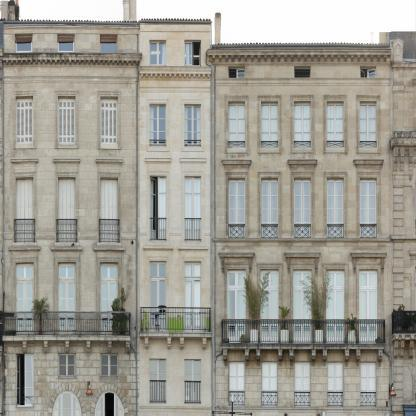Balcony: (221, 319, 386, 344), (2, 311, 131, 336), (141, 307, 212, 332)
Building Outline: (0, 0, 391, 416)
Cornice: (90, 383, 128, 416), (48, 383, 86, 416), (218, 252, 255, 274), (350, 252, 387, 274), (284, 252, 321, 274), (353, 159, 384, 167), (221, 159, 252, 167), (287, 159, 318, 167), (14, 346, 35, 354), (183, 32, 203, 40), (148, 32, 168, 40), (94, 246, 125, 251), (99, 346, 120, 353), (57, 346, 77, 353), (11, 159, 38, 164), (96, 159, 123, 164), (54, 159, 81, 164), (180, 158, 206, 163), (145, 158, 171, 163), (9, 246, 40, 250), (52, 246, 83, 250), (178, 246, 208, 249), (143, 246, 173, 249)
Deco: (377, 349, 383, 366), (223, 349, 228, 366), (289, 349, 294, 366), (311, 349, 316, 366), (322, 349, 327, 366), (344, 349, 349, 366), (355, 349, 360, 366), (278, 349, 283, 366), (256, 349, 261, 366), (245, 349, 250, 366), (22, 340, 27, 353), (65, 340, 70, 353), (86, 340, 91, 353), (107, 340, 112, 353), (202, 337, 207, 350), (180, 337, 185, 350), (144, 337, 149, 349), (44, 340, 48, 353), (126, 340, 130, 353), (167, 337, 171, 350)
Door: (101, 177, 118, 243), (58, 177, 75, 243), (184, 175, 201, 241), (16, 178, 33, 243), (150, 176, 167, 241), (228, 177, 245, 239), (261, 177, 278, 239), (294, 177, 311, 239), (293, 288, 311, 344), (360, 177, 376, 239), (327, 177, 343, 239), (16, 281, 34, 336), (228, 288, 246, 343), (327, 288, 345, 343), (101, 281, 118, 336), (59, 280, 76, 335), (360, 288, 377, 343), (261, 288, 278, 343), (185, 278, 202, 332), (150, 278, 167, 332)
Facade: (0, 18, 391, 415)
Floor: (2, 252, 391, 343), (2, 155, 391, 243), (2, 87, 391, 146), (139, 352, 391, 407)
Floor Slab: (3, 78, 391, 87), (3, 147, 391, 156), (3, 243, 391, 252), (3, 344, 391, 353), (139, 407, 391, 416)
Molding: (207, 49, 391, 61), (3, 52, 142, 66), (216, 408, 391, 416), (216, 78, 391, 86), (216, 239, 391, 247), (140, 66, 212, 81), (3, 76, 137, 83), (140, 87, 211, 93), (140, 405, 212, 410)
Top Floor: (2, 23, 210, 78), (210, 49, 390, 78)
Window: (16, 354, 34, 406), (101, 96, 118, 144), (16, 96, 33, 144), (58, 96, 75, 144), (228, 361, 245, 407), (261, 361, 278, 407), (228, 101, 245, 147), (261, 101, 278, 147), (185, 359, 202, 403), (150, 359, 167, 403), (360, 361, 376, 407), (294, 361, 310, 407), (327, 361, 343, 407), (360, 101, 376, 147), (294, 101, 310, 147), (327, 101, 343, 147), (184, 104, 201, 147), (150, 104, 167, 147), (100, 353, 118, 378), (58, 353, 76, 378), (184, 40, 201, 66), (150, 40, 167, 66), (228, 268, 246, 288), (16, 262, 34, 281), (293, 269, 311, 288), (327, 269, 345, 288), (261, 268, 278, 288), (15, 34, 33, 52), (59, 262, 76, 281), (360, 269, 377, 288), (101, 263, 118, 281), (100, 34, 117, 52), (58, 34, 75, 52), (185, 261, 202, 278), (150, 261, 167, 278), (360, 66, 377, 78), (228, 66, 245, 78), (294, 66, 311, 78)
